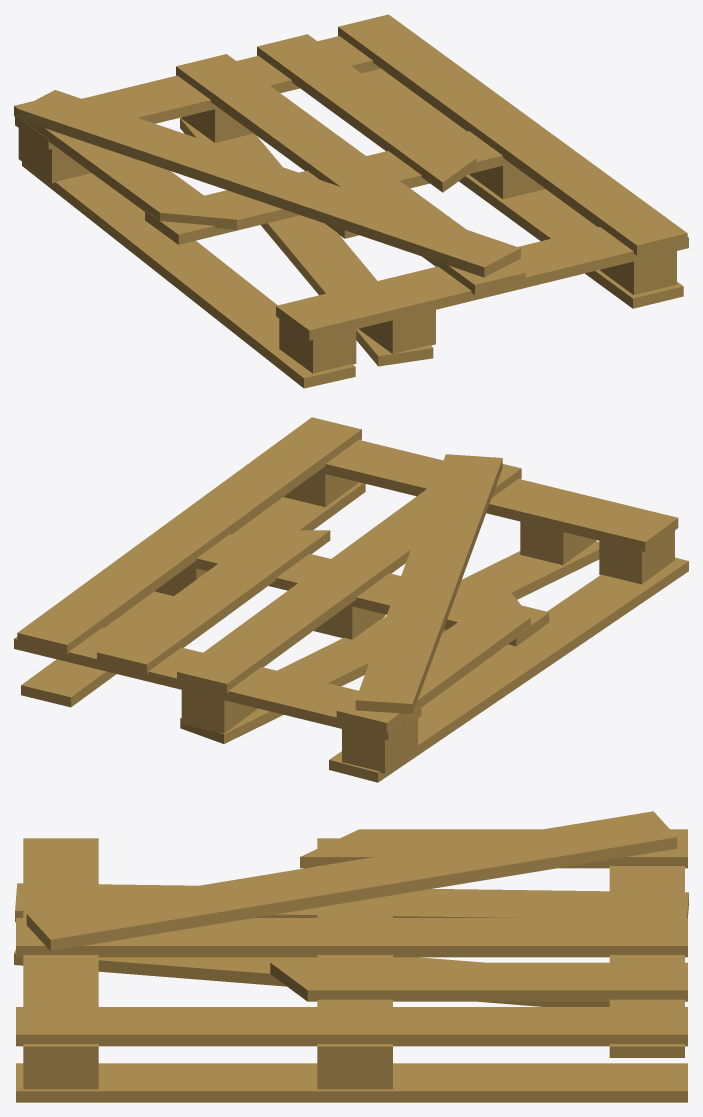
File: Pallet_Broken.gltf
3 views of the same model, one above another, from view 1: azimuth 30°, elevation 25°; view 2: azimuth 150°, elevation 25°; view 3: azimuth 270°, elevation 25° (orthographic). The views are drawn at different scales.
Parts seen in each view (by area): view 1: Pallet_Broken; view 2: Pallet_Broken; view 3: Pallet_Broken.
Boxes of the visible parts, x1,y1,x2,y2 form: Pallet_Broken: [14, 14, 688, 388]; Pallet_Broken: [14, 417, 688, 782]; Pallet_Broken: [14, 811, 688, 1102].
Size of the model in its own units: 0.9173 by 0.1639 by 1.22.
Materials: 1 (1 with a texture image).
